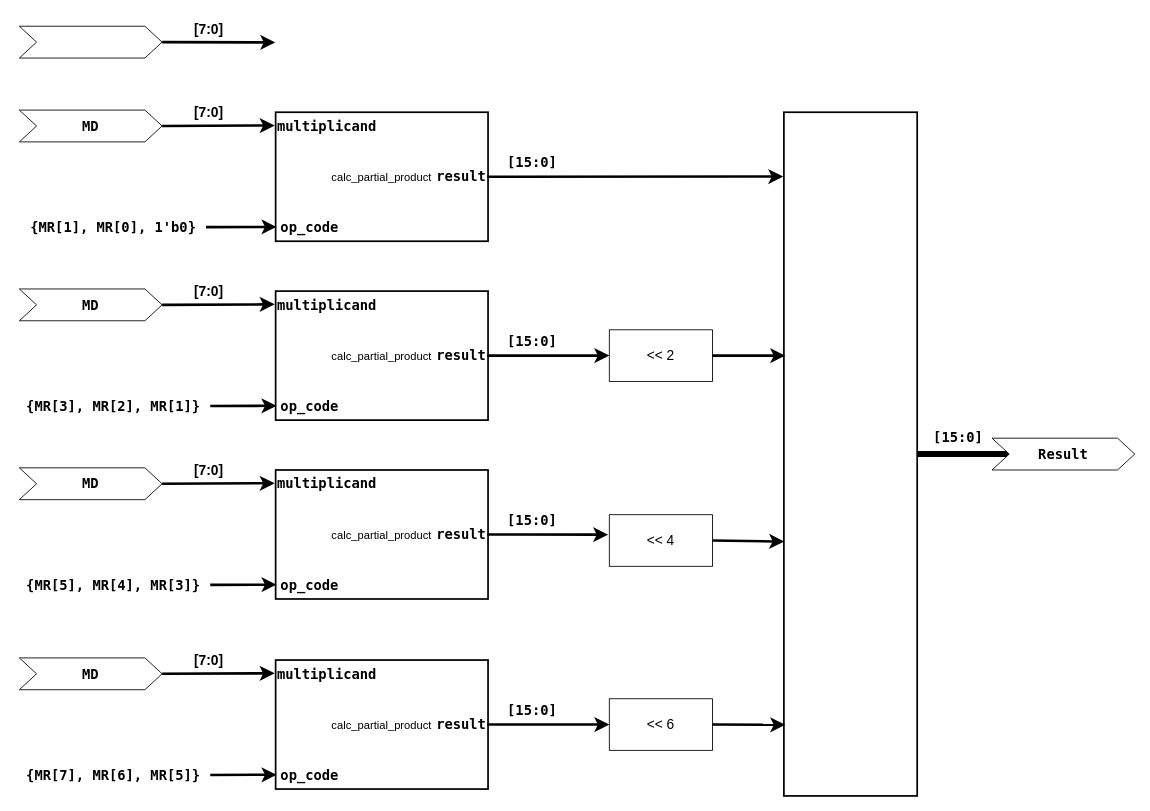
The diagram is 1150 pixels wide and 811 high, and some of its shapes have lost their labels. Each missing label, with the centre of its shape:
"Adder" belongs at point 850,453.
"MR" belongs at point 90,41.
